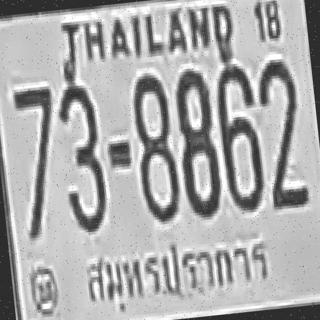N02: (256, 56, 306, 206), (254, 56, 305, 196)
N03: (54, 81, 108, 231)
N06: (211, 61, 265, 211)
N07: (12, 83, 64, 233), (12, 84, 59, 188), (12, 83, 58, 177)
N08: (129, 71, 181, 221), (171, 67, 221, 216)
P57: (81, 230, 280, 315)
